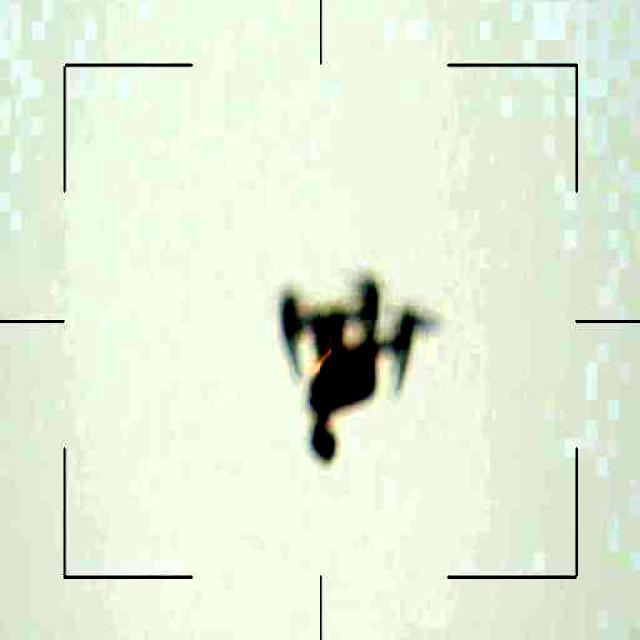bird: (262, 280, 418, 479)
